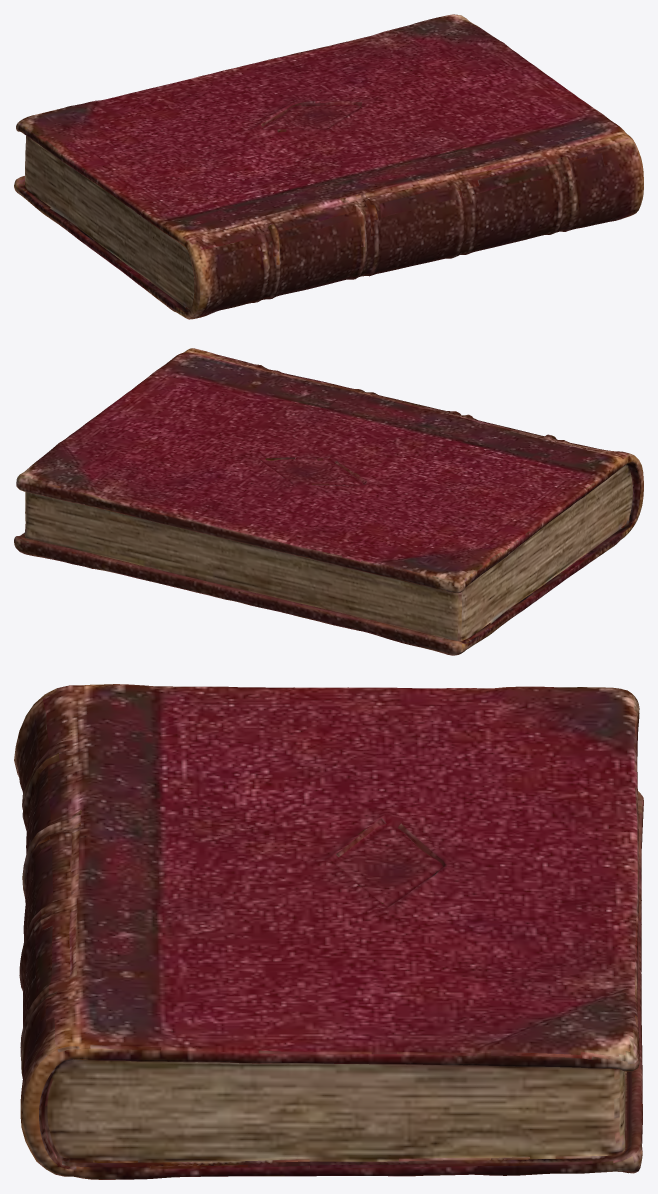
The model's file is album.glb.
The picture shows the model from 3 angles, top to bottom: view 1: azimuth 30°, elevation 25°; view 2: azimuth 150°, elevation 25°; view 3: azimuth 270°, elevation 25°; orthographic projection. The views are drawn at different scales.
Parts seen in each view (by area): view 1: tripo_node_5a622d82; view 2: tripo_node_5a622d82; view 3: tripo_node_5a622d82.
Part boxes in pixels (box(x1,y1,x2,y2)): tripo_node_5a622d82: box(14, 14, 643, 319); tripo_node_5a622d82: box(14, 348, 643, 655); tripo_node_5a622d82: box(14, 684, 643, 1179).
Bounding box in the file's own units: 0.9793 × 0.1757 × 0.7136.
Materials: 1 (1 with a texture image).
